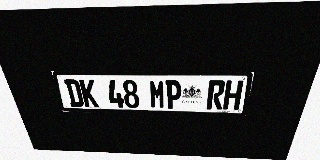4: (106, 80, 125, 108)
8: (122, 80, 140, 108)
D: (64, 79, 85, 107)
H: (223, 80, 244, 110)
K: (79, 79, 99, 107)
M: (149, 80, 165, 108)
P: (166, 80, 182, 109)
R: (206, 80, 226, 110)
